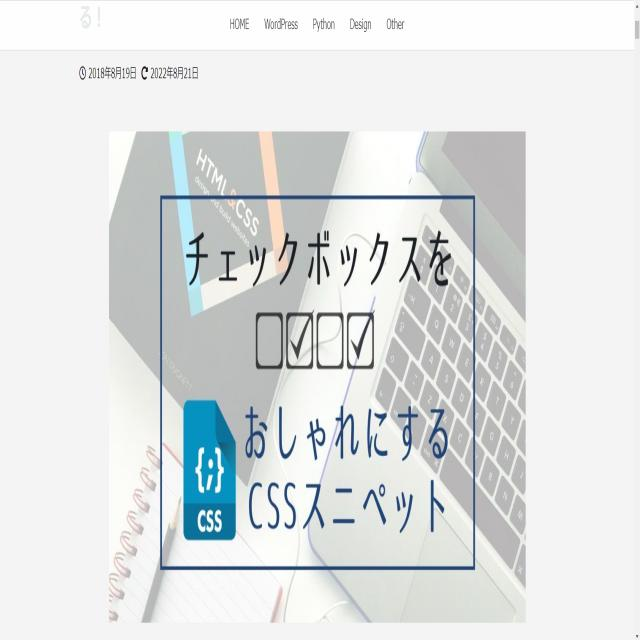checkbox: (346, 311, 376, 372), (286, 310, 314, 370)
